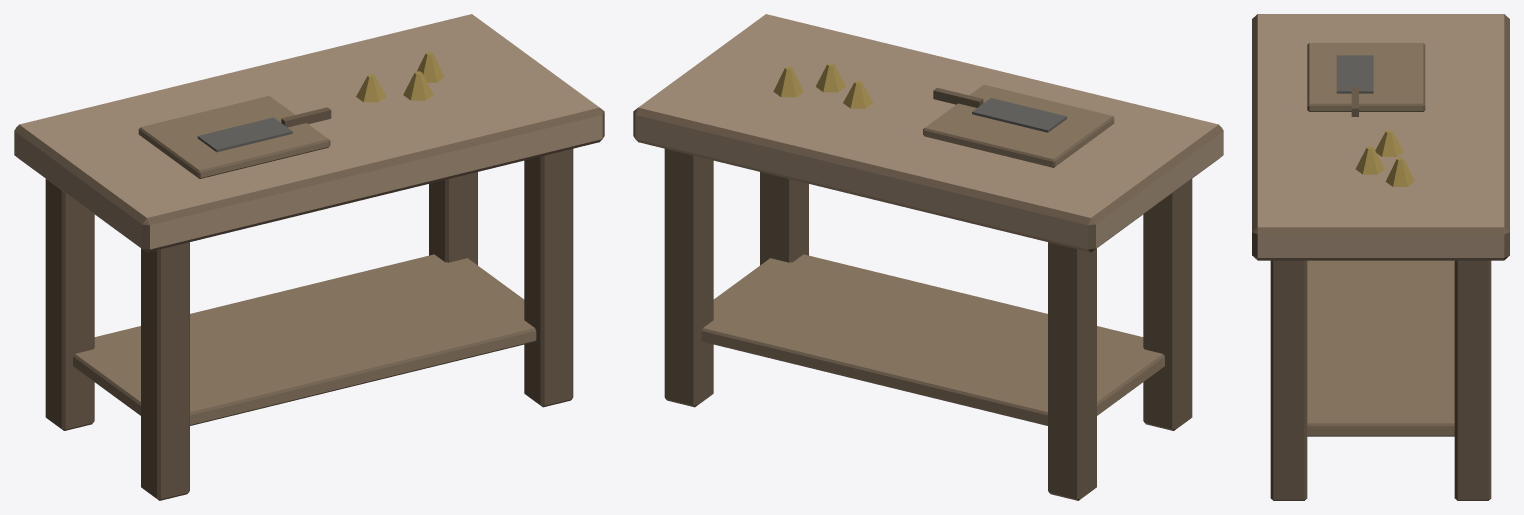
Rendered from cutting_table.glb.
3 renders of one model, left to right at view 1: azimuth 30°, elevation 25°; view 2: azimuth 150°, elevation 25°; view 3: azimuth 270°, elevation 25°, orthographic. The views are drawn at different scales.
Visible parts, largest first — view 1: Cutting_Table; view 2: Cutting_Table; view 3: Cutting_Table.
Boxes of the visible parts, bbox=[...] form: Cutting_Table: bbox=[14, 14, 604, 500]; Cutting_Table: bbox=[633, 14, 1223, 500]; Cutting_Table: bbox=[1252, 14, 1509, 500].
Size of the model in its own units: 1.4 by 0.918 by 0.7.
